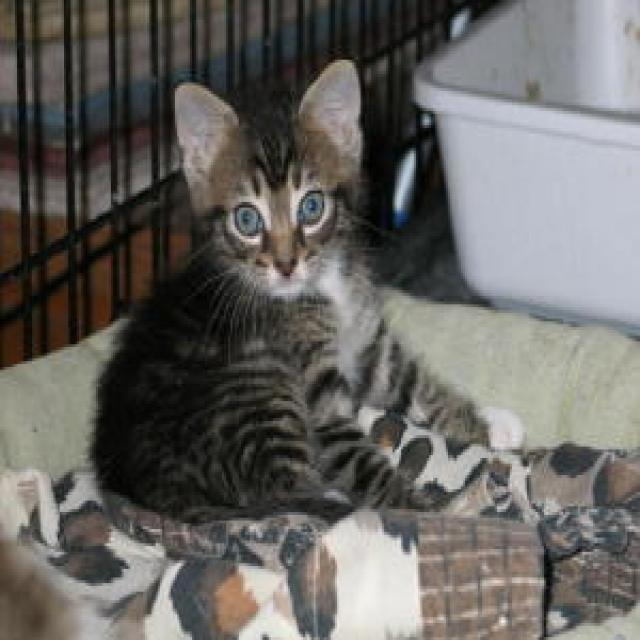cats: (92, 58, 525, 522)
